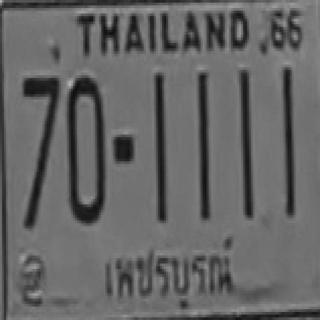N00: (66, 74, 106, 222)
N01: (198, 71, 211, 198), (283, 66, 296, 192), (241, 67, 253, 202), (155, 70, 167, 202), (240, 69, 252, 192)
N07: (21, 75, 60, 210), (21, 75, 60, 175), (21, 75, 60, 164)
P43: (94, 238, 244, 309)
